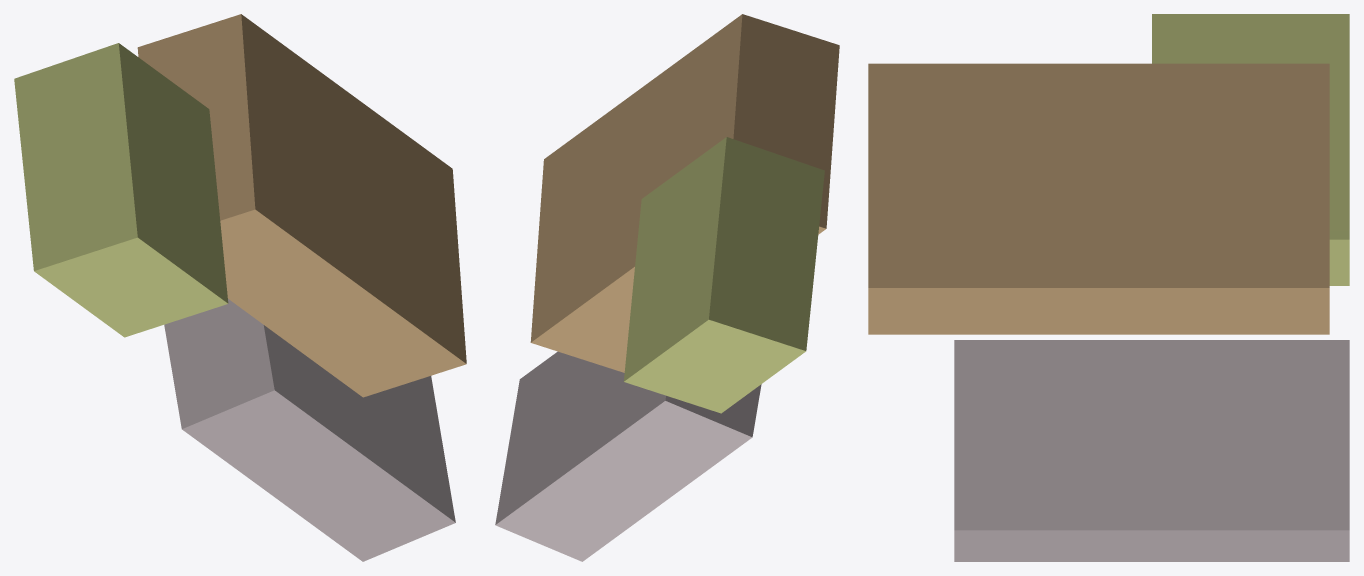
The picture shows the model from 3 angles, left to right: view 1: azimuth 30°, elevation 25°; view 2: azimuth 150°, elevation 25°; view 3: azimuth 270°, elevation 25°; orthographic projection. The views are drawn at different scales.
Visible parts, largest first — view 1: 0_2_3_3_3_0_2_3_0_2; view 2: 0_2_3_3_3_0_2_3_0_2; view 3: 0_2_3_3_3_0_2_3_0_2.
Boxes of the visible parts, x1,y1,x2,y2 form: 0_2_3_3_3_0_2_3_0_2: (14, 14, 466, 561); 0_2_3_3_3_0_2_3_0_2: (495, 14, 839, 561); 0_2_3_3_3_0_2_3_0_2: (868, 14, 1349, 561).
Size of the model in its own units: 14.94 by 22.46 by 21.92.
